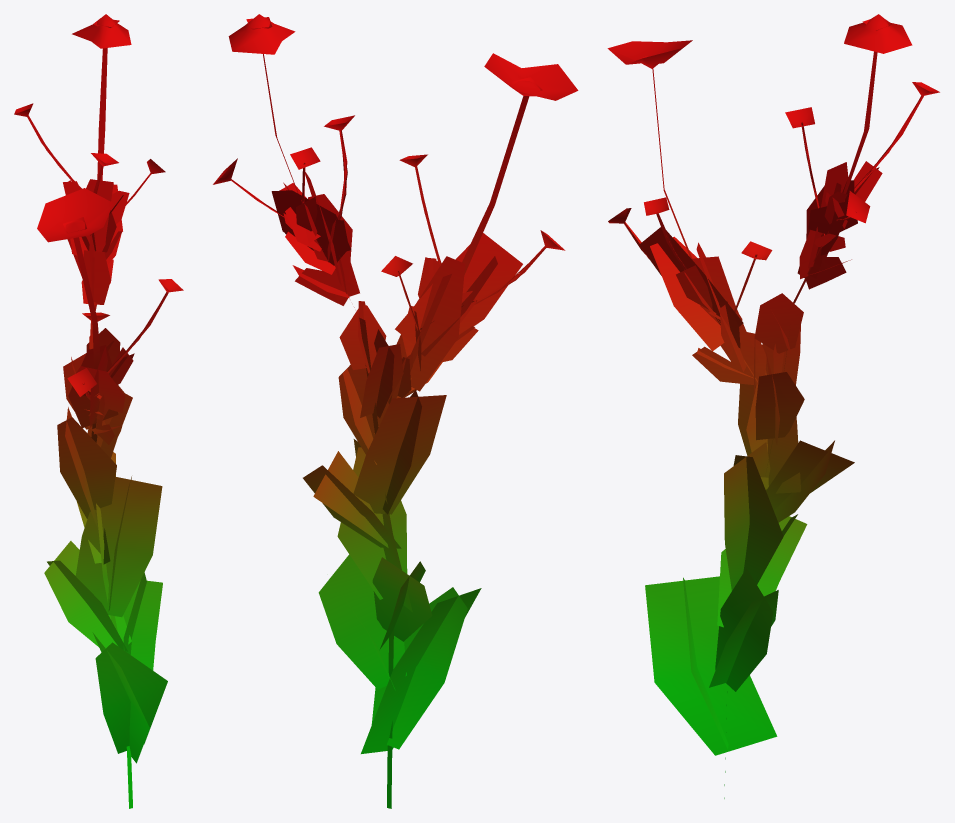
The model's file is Chamomile_LOD3_Var7.fbx.
3 renders of one model, left to right at view 1: azimuth 30°, elevation 25°; view 2: azimuth 150°, elevation 25°; view 3: azimuth 270°, elevation 25°, orthographic. The views are drawn at different scales.
Visible parts, largest first — view 1: _saii_Var7_LOD3; view 2: _saii_Var7_LOD3; view 3: _saii_Var7_LOD3.
Boxes of the visible parts, x1,y1,x2,y2 form: _saii_Var7_LOD3: (14,14,183,808); _saii_Var7_LOD3: (213,14,578,808); _saii_Var7_LOD3: (607,14,939,798).
Bounding box in the file's own units: 14.52 × 47.3 × 17.47.
